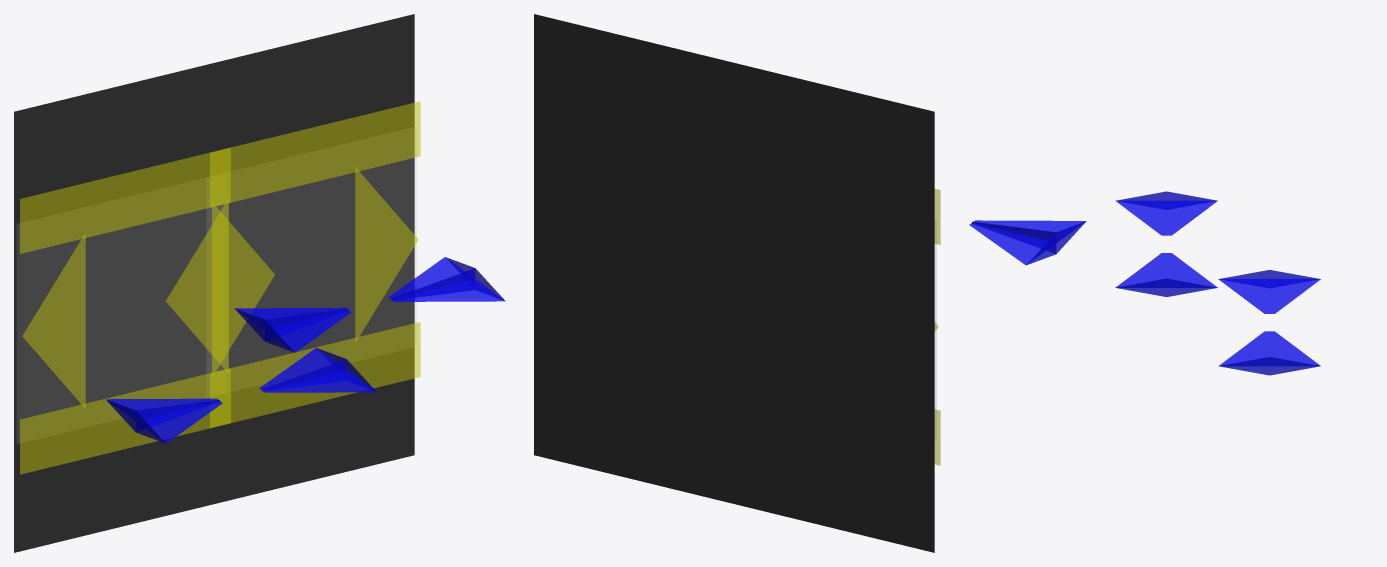
Rendered from StackedBranchPointsObjContent.obj.
3 views of the same model, side by side, from view 1: azimuth 30°, elevation 25°; view 2: azimuth 150°, elevation 25°; view 3: azimuth 270°, elevation 25° (orthographic). The views are drawn at different scales.
Bounding box in the file's own units: 1.9 × 2 × 1.25.
